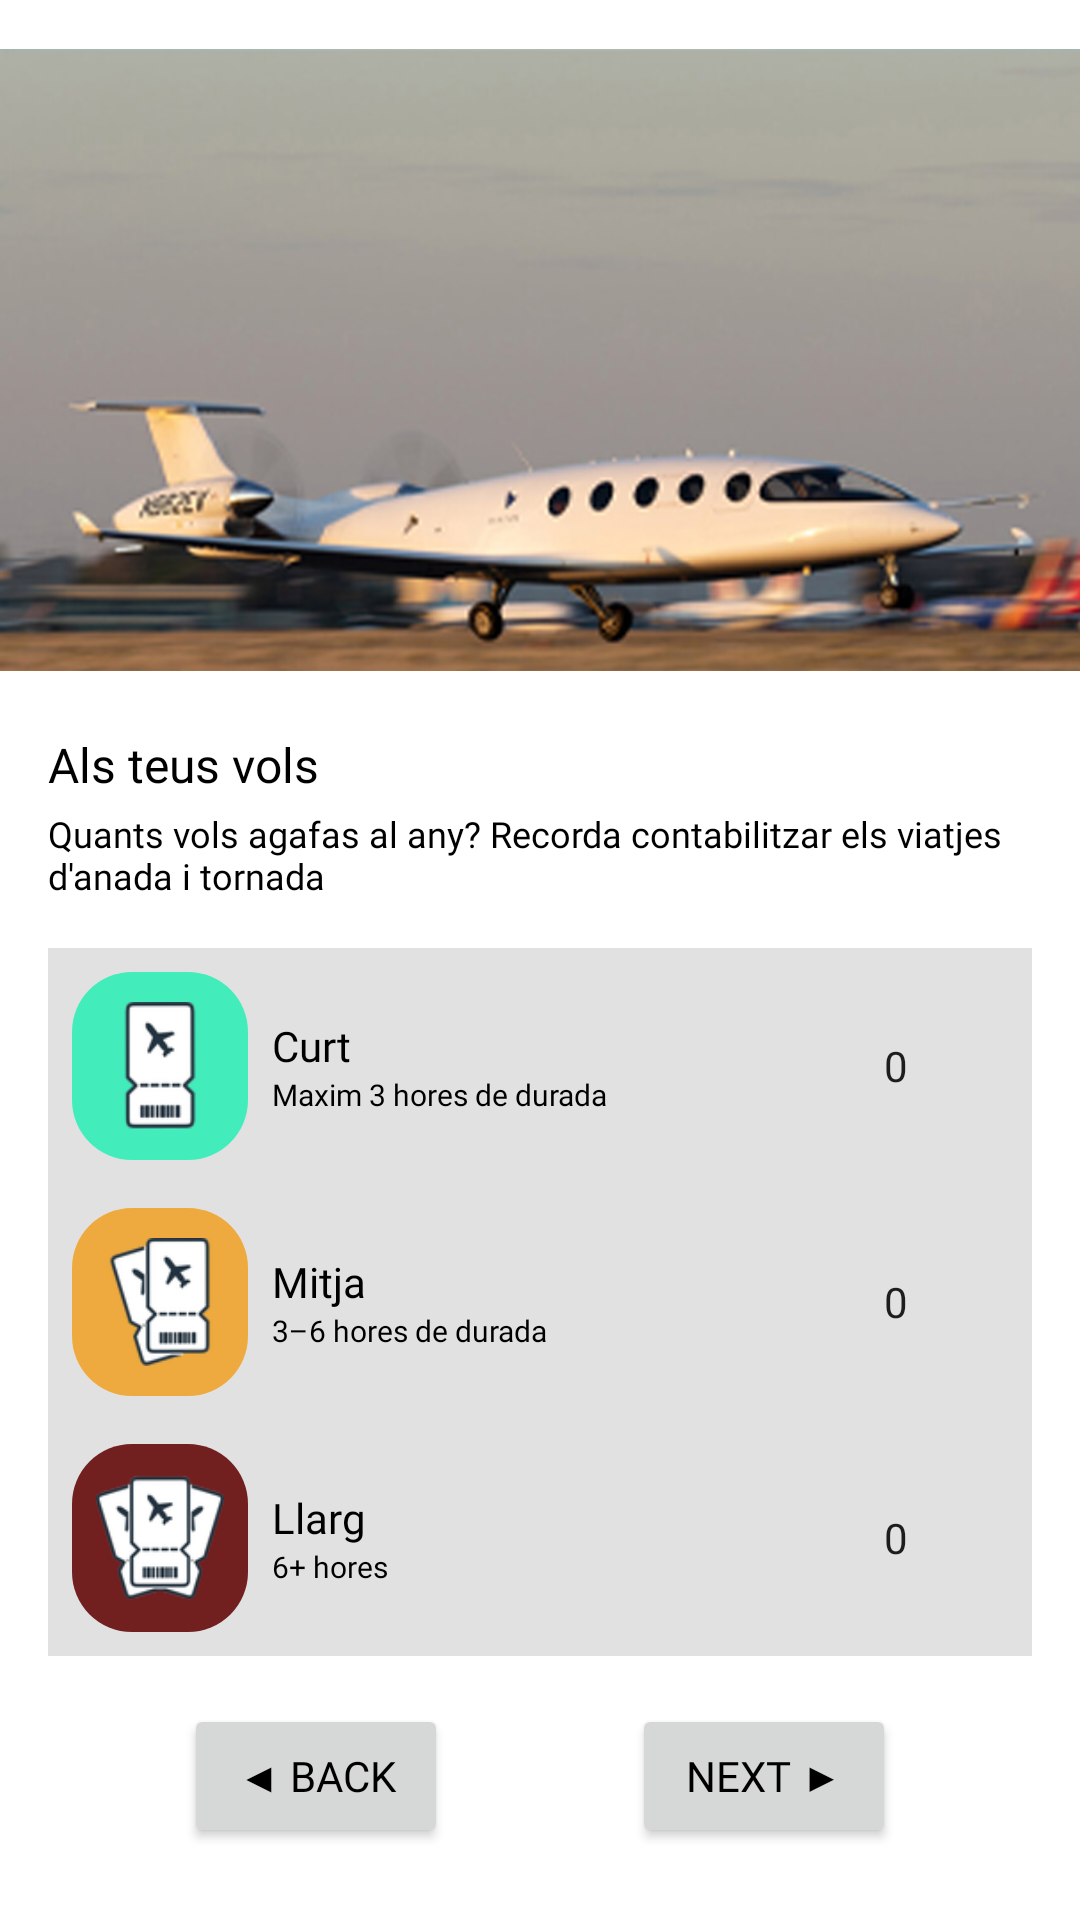

Icons on this 1080 × 1920 Android screen, each with its box as (x1, y1, x2, y2):
im long fly: (72, 1444, 248, 1632)
im medium fly: (72, 1208, 248, 1396)
im short fly: (72, 972, 248, 1160)
